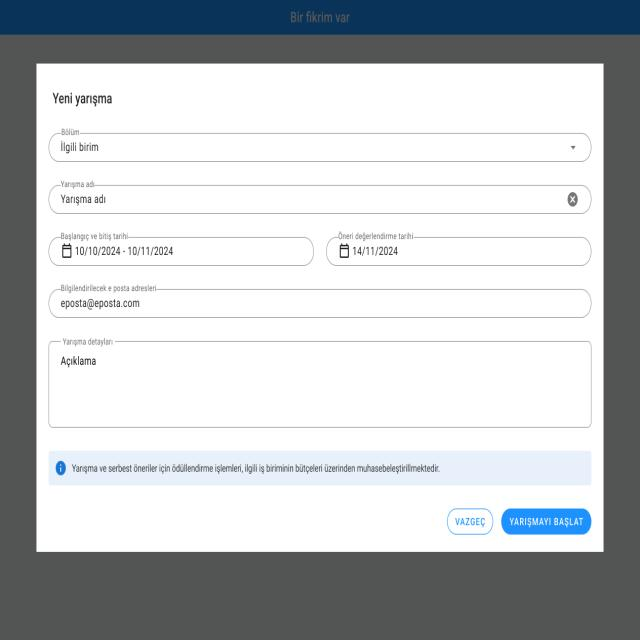QLabel: (70, 460, 440, 474), (49, 89, 112, 107), (508, 516, 584, 528), (453, 516, 486, 530)
VBtn: (502, 507, 592, 536), (446, 508, 493, 534)
VCard: (48, 450, 590, 486)
VCombobox: (47, 128, 591, 164)
VDialog: (37, 64, 604, 553)
VIcon: (54, 460, 66, 476)
VInlineDatepicker: (326, 231, 592, 267), (49, 232, 314, 268)
VTextField: (48, 282, 591, 320), (49, 181, 591, 216)
VTextarea: (48, 338, 592, 429)
